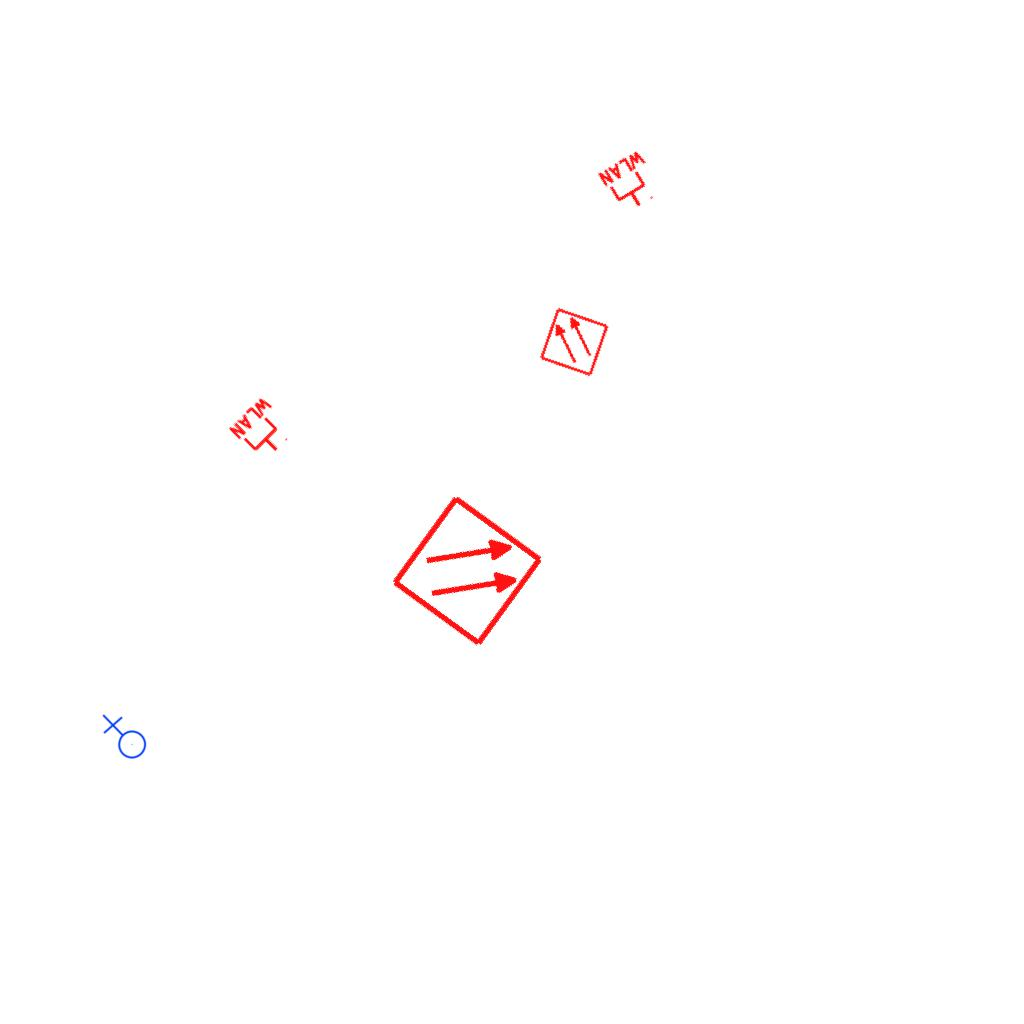Elektroanschluss_allgemein_230V_Geraeteanschlussdose_230V: (100, 714, 147, 763)
RMO_Rauchmelder_optischer: (388, 491, 547, 650), (538, 306, 610, 378)
WLAN: (226, 393, 300, 467), (595, 147, 667, 219)
